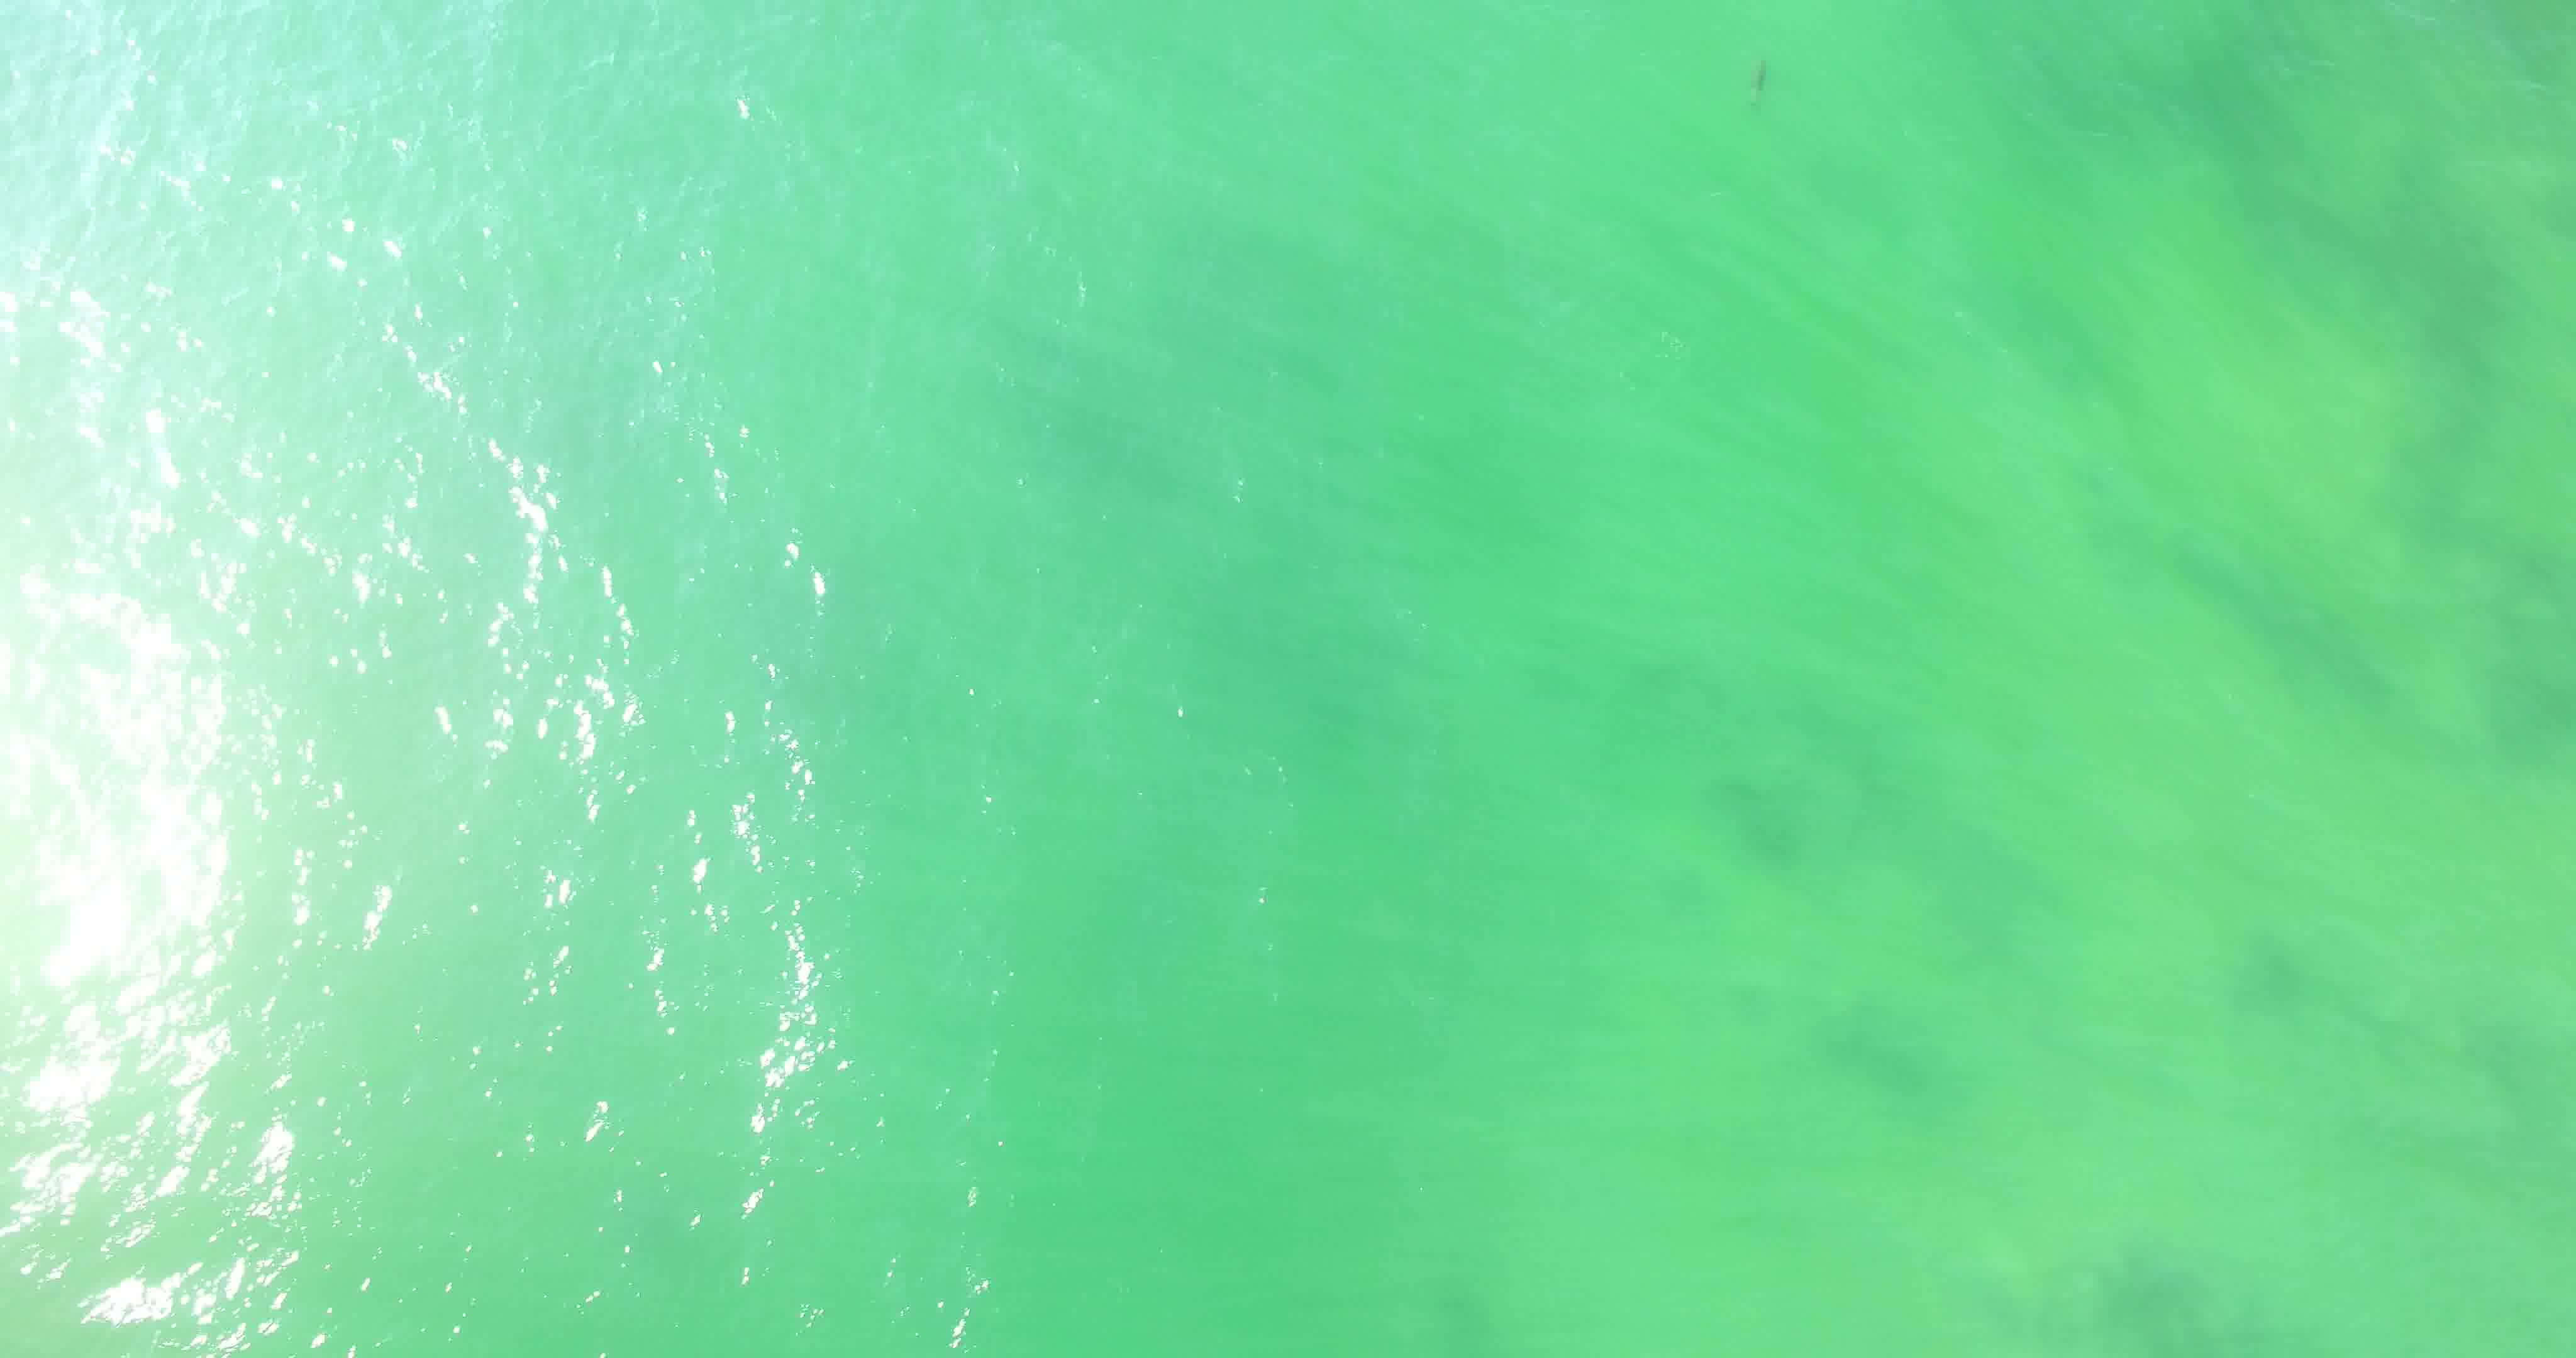dolphin: (1731, 41, 1784, 118)
